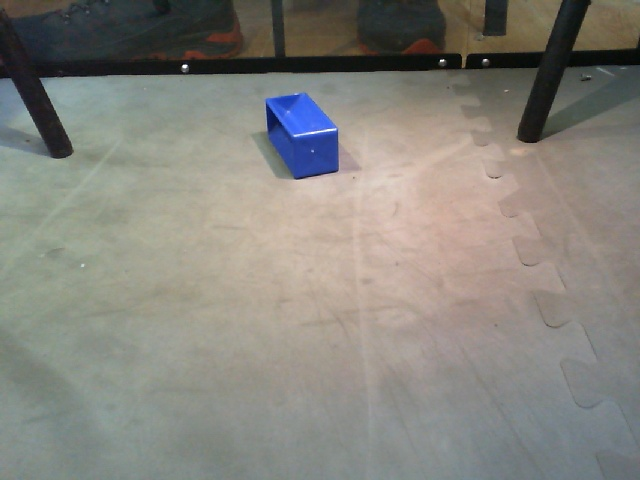BlueSample: (262, 90, 344, 181)
